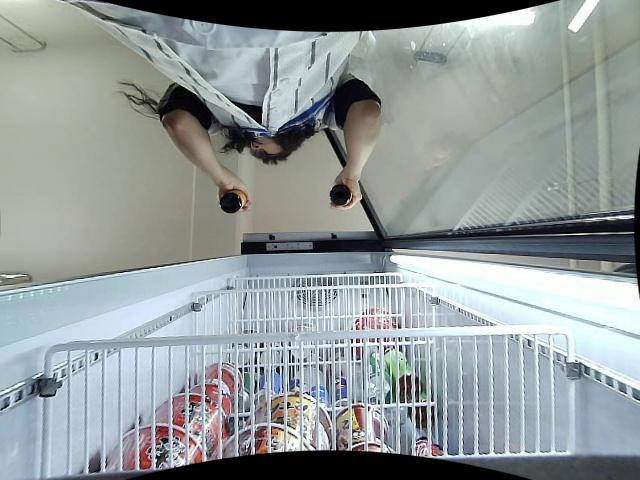00_hand: (217, 173, 252, 213), (330, 169, 362, 212)
17_vita500: (217, 187, 249, 215), (329, 184, 353, 209)
